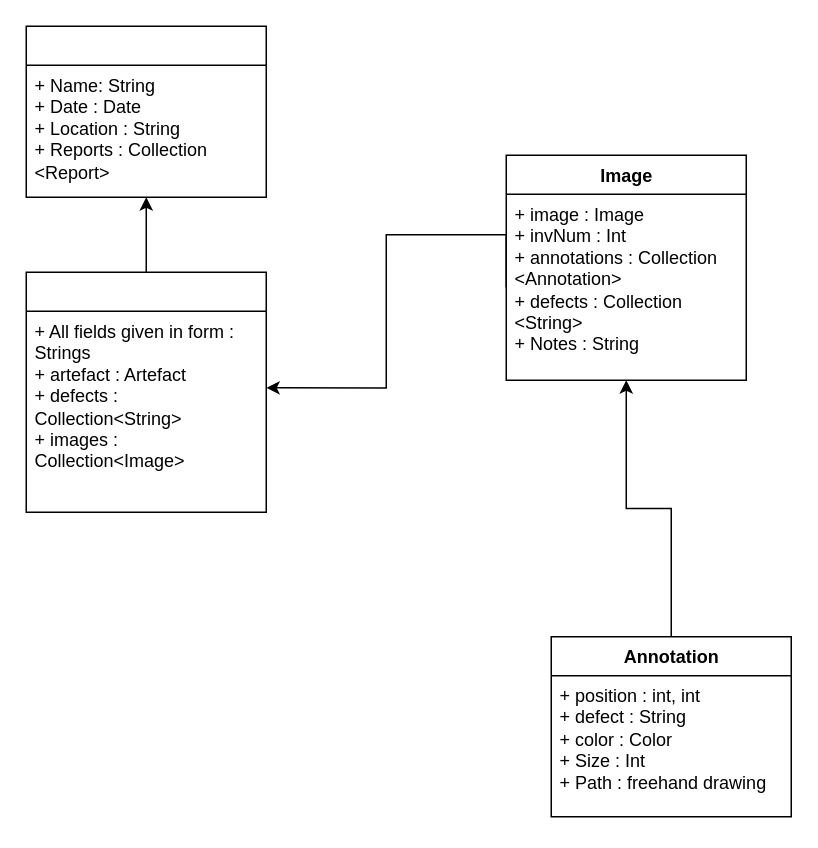
Some shapes in this 818 by 848 pixel diagram are drawn without their labels. The shapes that lost their labels are listed below. From the top down, each one's box as (x1, y1, x2, y2) in pixels, then its label:
(25, 25, 266, 197): Exhibition
(25, 271, 266, 512): Report
